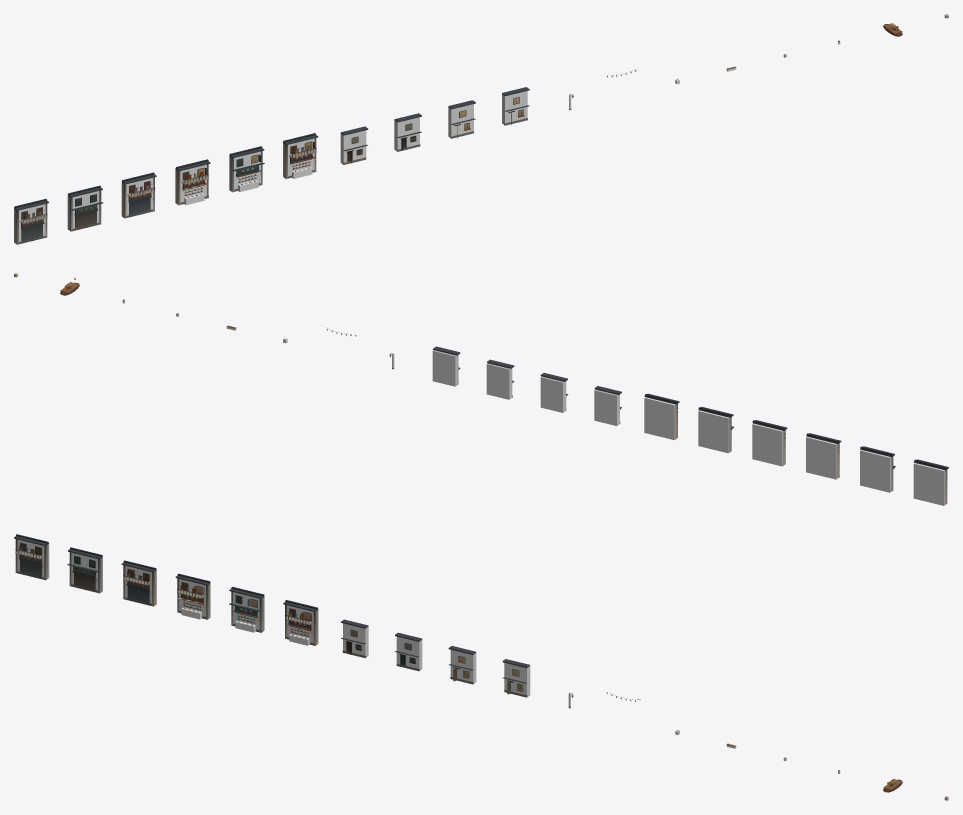
Rendered from quiet_kit.glb.
The picture shows the model from 3 angles, top to bottom: view 1: azimuth 30°, elevation 25°; view 2: azimuth 150°, elevation 25°; view 3: azimuth 330°, elevation 25°; orthographic projection.
Parts seen in each view (by area): view 1: qshop_a.001, qshop_c.001, qshop_b.001, qshop_c_open.001, qshop_a_open.001, qshop_b_open.001, COL_qshop_b_open, COL_qhouse_a, COL_qhouse_a_open, COL_qshop_c_open, COL_qshop_a_open, COL_qhouse_b_open (+1 smaller); view 2: COL_qshop_a, COL_qshop_b_open, COL_qshop_a_open, COL_qshop_b, COL_qshop_c, COL_qshop_c_open, COL_qhouse_b_open, COL_qhouse_b, COL_qhouse_a_open, COL_qhouse_a; view 3: qshop_c.001, qshop_a.001, qshop_b.001, qshop_a_open.001, qshop_c_open.001, qshop_b_open.001, COL_qshop_b_open, COL_qhouse_b_open, COL_qhouse_a_open, COL_qshop_a_open, COL_qhouse_b, COL_qshop_c_open (+1 smaller).
Boxes of the visible parts, x1=… form: qshop_a.001: x1=14, y1=199, x2=48, y2=244; qshop_c.001: x1=122, y1=172, x2=156, y2=218; qshop_b.001: x1=68, y1=185, x2=103, y2=231; qshop_c_open.001: x1=283, y1=133, x2=318, y2=179; qshop_a_open.001: x1=175, y1=159, x2=210, y2=205; qshop_b_open.001: x1=229, y1=146, x2=264, y2=192; COL_qshop_b_open: x1=229, y1=151, x2=260, y2=191; COL_qhouse_a: x1=340, y1=130, x2=366, y2=164; COL_qhouse_a_open: x1=448, y1=104, x2=473, y2=138; COL_qshop_c_open: x1=283, y1=138, x2=314, y2=178; COL_qshop_a_open: x1=175, y1=164, x2=206, y2=205; COL_qhouse_b_open: x1=502, y1=91, x2=527, y2=124; COL_qshop_a: x1=913, y1=463, x2=944, y2=505; COL_qshop_b_open: x1=698, y1=410, x2=728, y2=453; COL_qshop_a_open: x1=752, y1=423, x2=782, y2=466; COL_qshop_b: x1=860, y1=450, x2=890, y2=492; COL_qshop_c: x1=806, y1=436, x2=836, y2=479; COL_qshop_c_open: x1=644, y1=397, x2=675, y2=439; COL_qhouse_b_open: x1=432, y1=350, x2=458, y2=386; COL_qhouse_b: x1=540, y1=377, x2=566, y2=412; COL_qhouse_a_open: x1=486, y1=363, x2=512, y2=399; COL_qhouse_a: x1=594, y1=390, x2=619, y2=425; qshop_c.001: x1=121, y1=560, x2=156, y2=606; qshop_a.001: x1=14, y1=534, x2=48, y2=580; qshop_b.001: x1=67, y1=547, x2=102, y2=593; qshop_a_open.001: x1=175, y1=573, x2=210, y2=619; qshop_c_open.001: x1=283, y1=600, x2=318, y2=645; qshop_b_open.001: x1=229, y1=587, x2=264, y2=632; COL_qshop_b_open: x1=233, y1=592, x2=264, y2=632; COL_qhouse_b_open: x1=504, y1=663, x2=530, y2=696; COL_qhouse_a_open: x1=450, y1=650, x2=476, y2=683; COL_qshop_a_open: x1=179, y1=579, x2=210, y2=619; COL_qhouse_b: x1=396, y1=636, x2=422, y2=670; COL_qshop_c_open: x1=287, y1=605, x2=318, y2=645.
Bounding box in the file's own units: 173 × 6.85 × 5.04.
